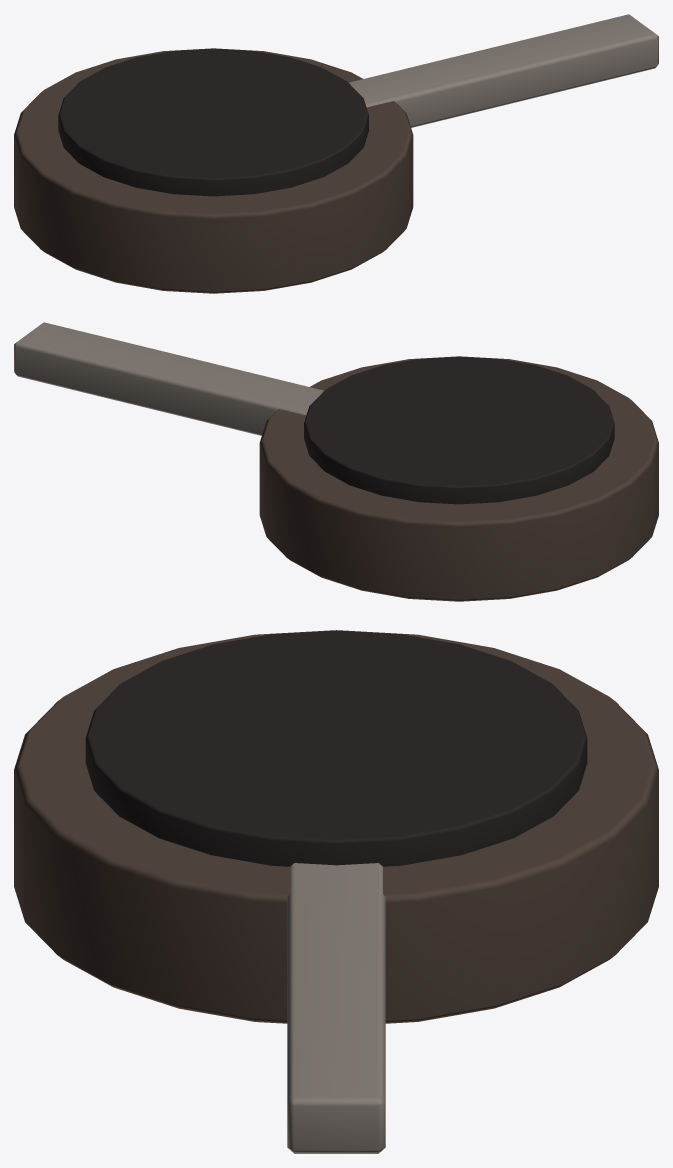
The model's file is prop_pan_dark_01.glb.
The picture shows the model from 3 angles, top to bottom: view 1: azimuth 30°, elevation 25°; view 2: azimuth 150°, elevation 25°; view 3: azimuth 270°, elevation 25°; orthographic projection. The views are drawn at different scales.
Parts seen in each view (by area): view 1: pan_body.002, pan_inner.002, pan_handle.002; view 2: pan_body.002, pan_inner.002, pan_handle.002; view 3: pan_body.002, pan_inner.002, pan_handle.002.
Boxes of the visible parts, x1,y1,x2,y2 form: pan_body.002: [14, 48, 413, 293]; pan_inner.002: [58, 48, 368, 196]; pan_handle.002: [349, 14, 658, 127]; pan_body.002: [259, 356, 658, 601]; pan_inner.002: [304, 356, 614, 504]; pan_handle.002: [14, 322, 323, 435]; pan_body.002: [14, 630, 658, 1023]; pan_inner.002: [85, 630, 587, 866]; pan_handle.002: [287, 863, 385, 1153].
Size of the model in its own units: 0.63 by 0.0975 by 0.36.
